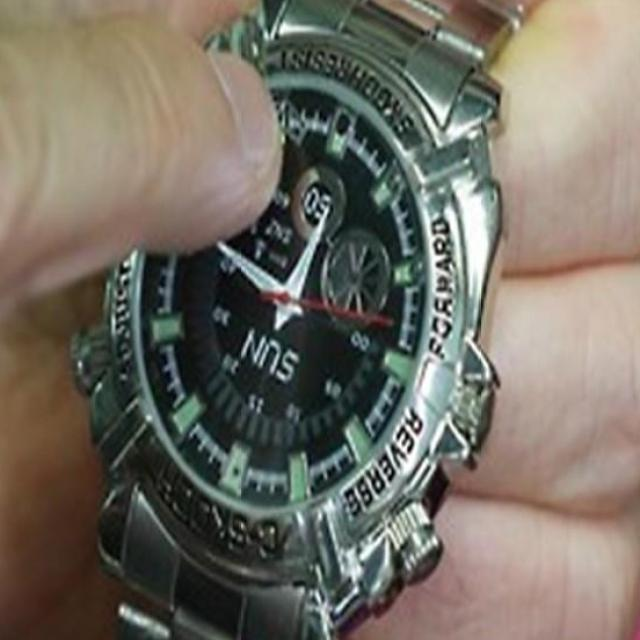hidden camera: (329, 114, 358, 138)
